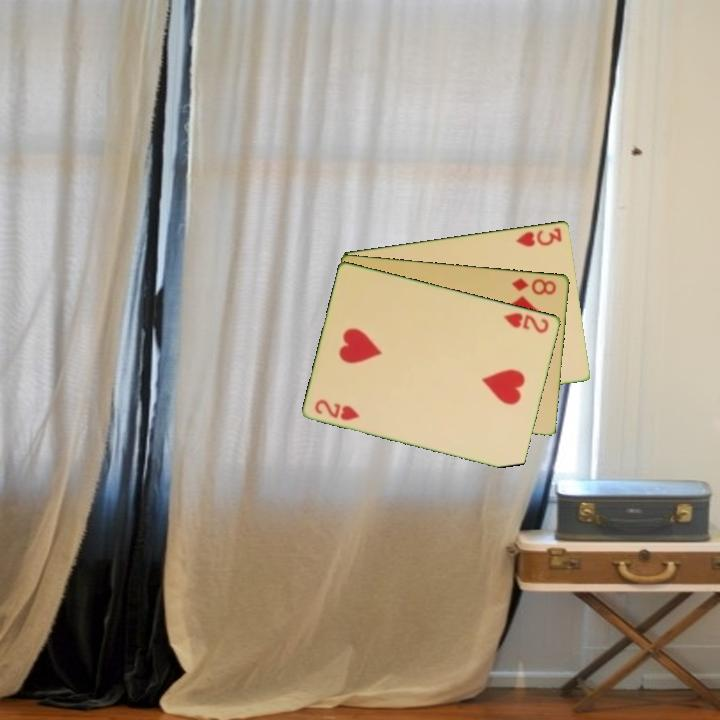2h: (312, 395, 362, 423), (501, 309, 552, 336)
3h: (513, 224, 565, 249)
8d: (509, 274, 559, 297)
